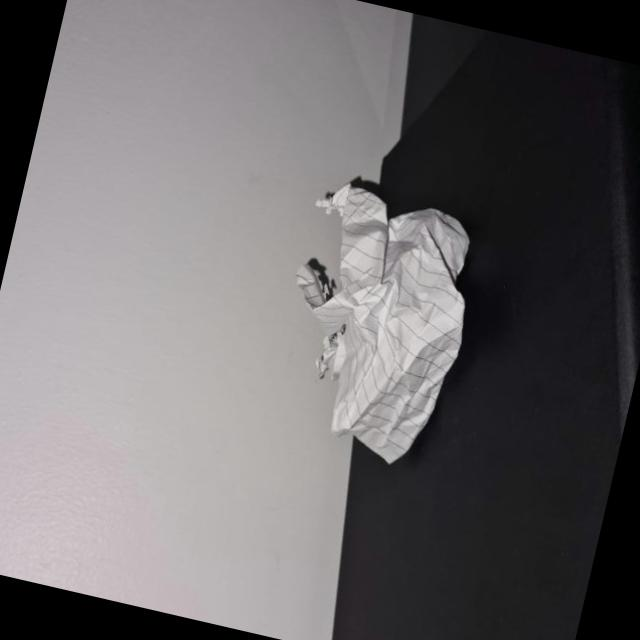cardboard paper: (294, 186, 465, 464)
